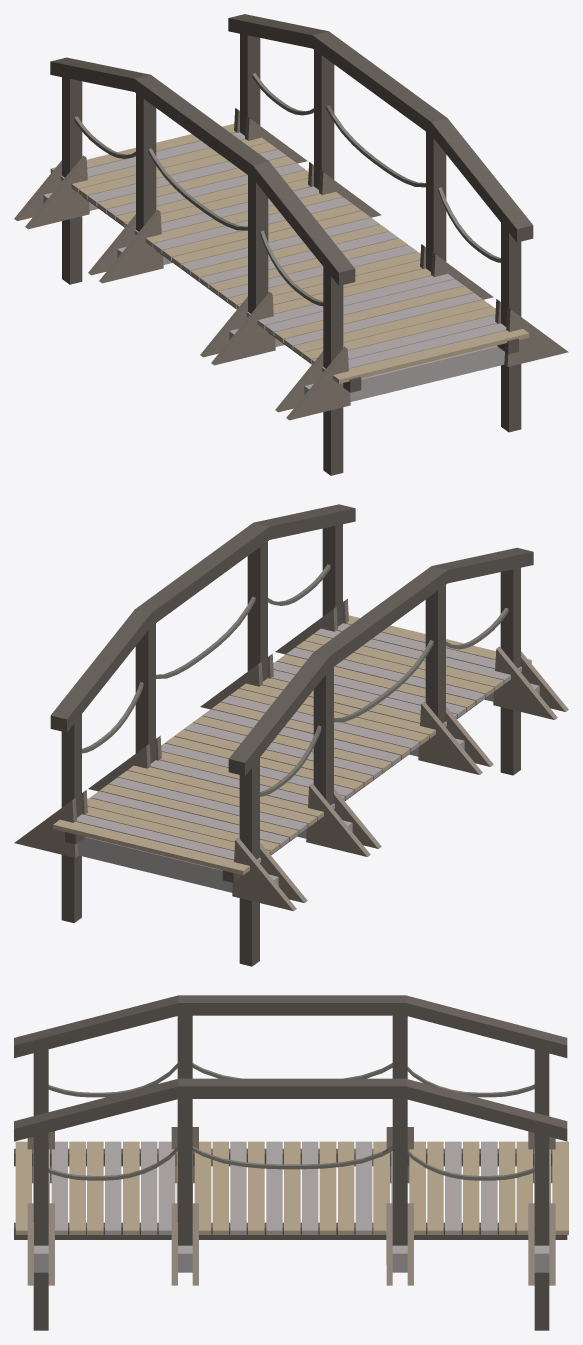
Rendered from bridge_for_UNITYFzREE.fbx.
The picture shows the model from 3 angles, top to bottom: view 1: azimuth 30°, elevation 25°; view 2: azimuth 150°, elevation 25°; view 3: azimuth 270°, elevation 25°; orthographic projection. The views are drawn at different scales.
Parts seen in each view (by area): view 1: Cube.012; view 2: Cube.012; view 3: Cube.012.
Boxes of the visible parts, x1=… form: Cube.012: x1=14, y1=14, x2=568, y2=475; Cube.012: x1=14, y1=504, x2=568, y2=966; Cube.012: x1=14, y1=995, x2=568, y2=1330.
Bounding box in the file's own units: 673 × 588 × 1206.
